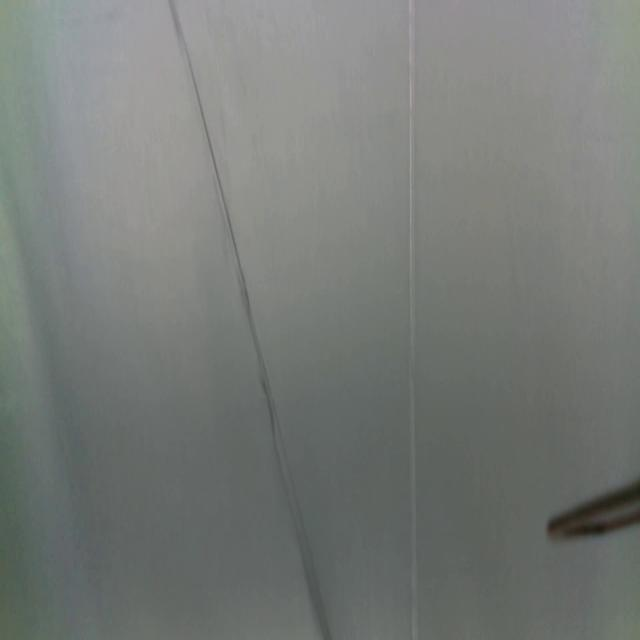crease: (169, 0, 329, 638), (407, 0, 420, 639)
